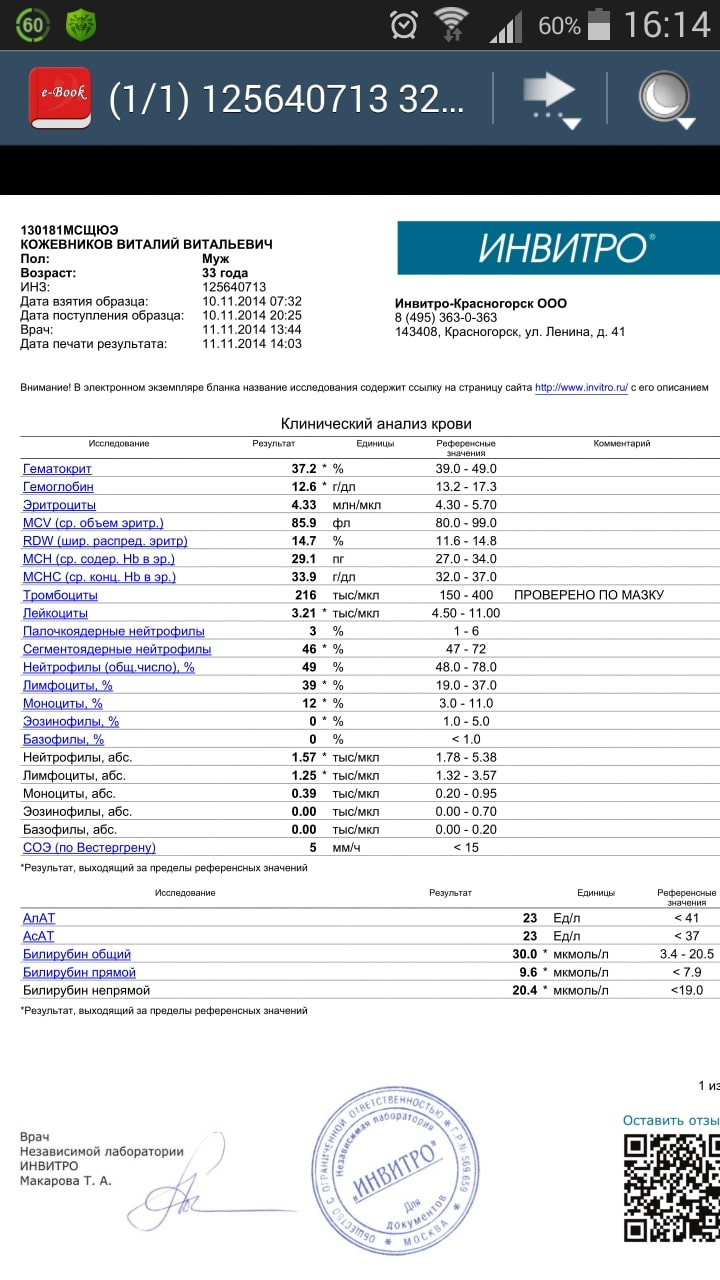column: (23, 436, 211, 855), (514, 436, 664, 855), (252, 436, 327, 855), (431, 436, 500, 855), (332, 436, 394, 855), (22, 907, 215, 998), (428, 907, 548, 998), (553, 907, 615, 998), (657, 907, 716, 998)
